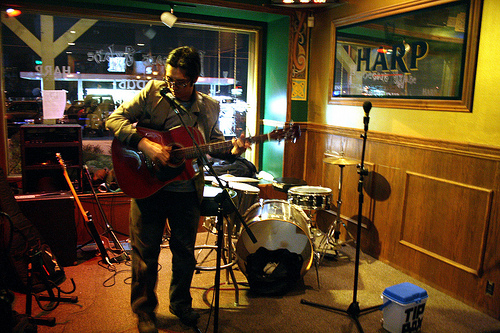guitar: (110, 124, 302, 199)
